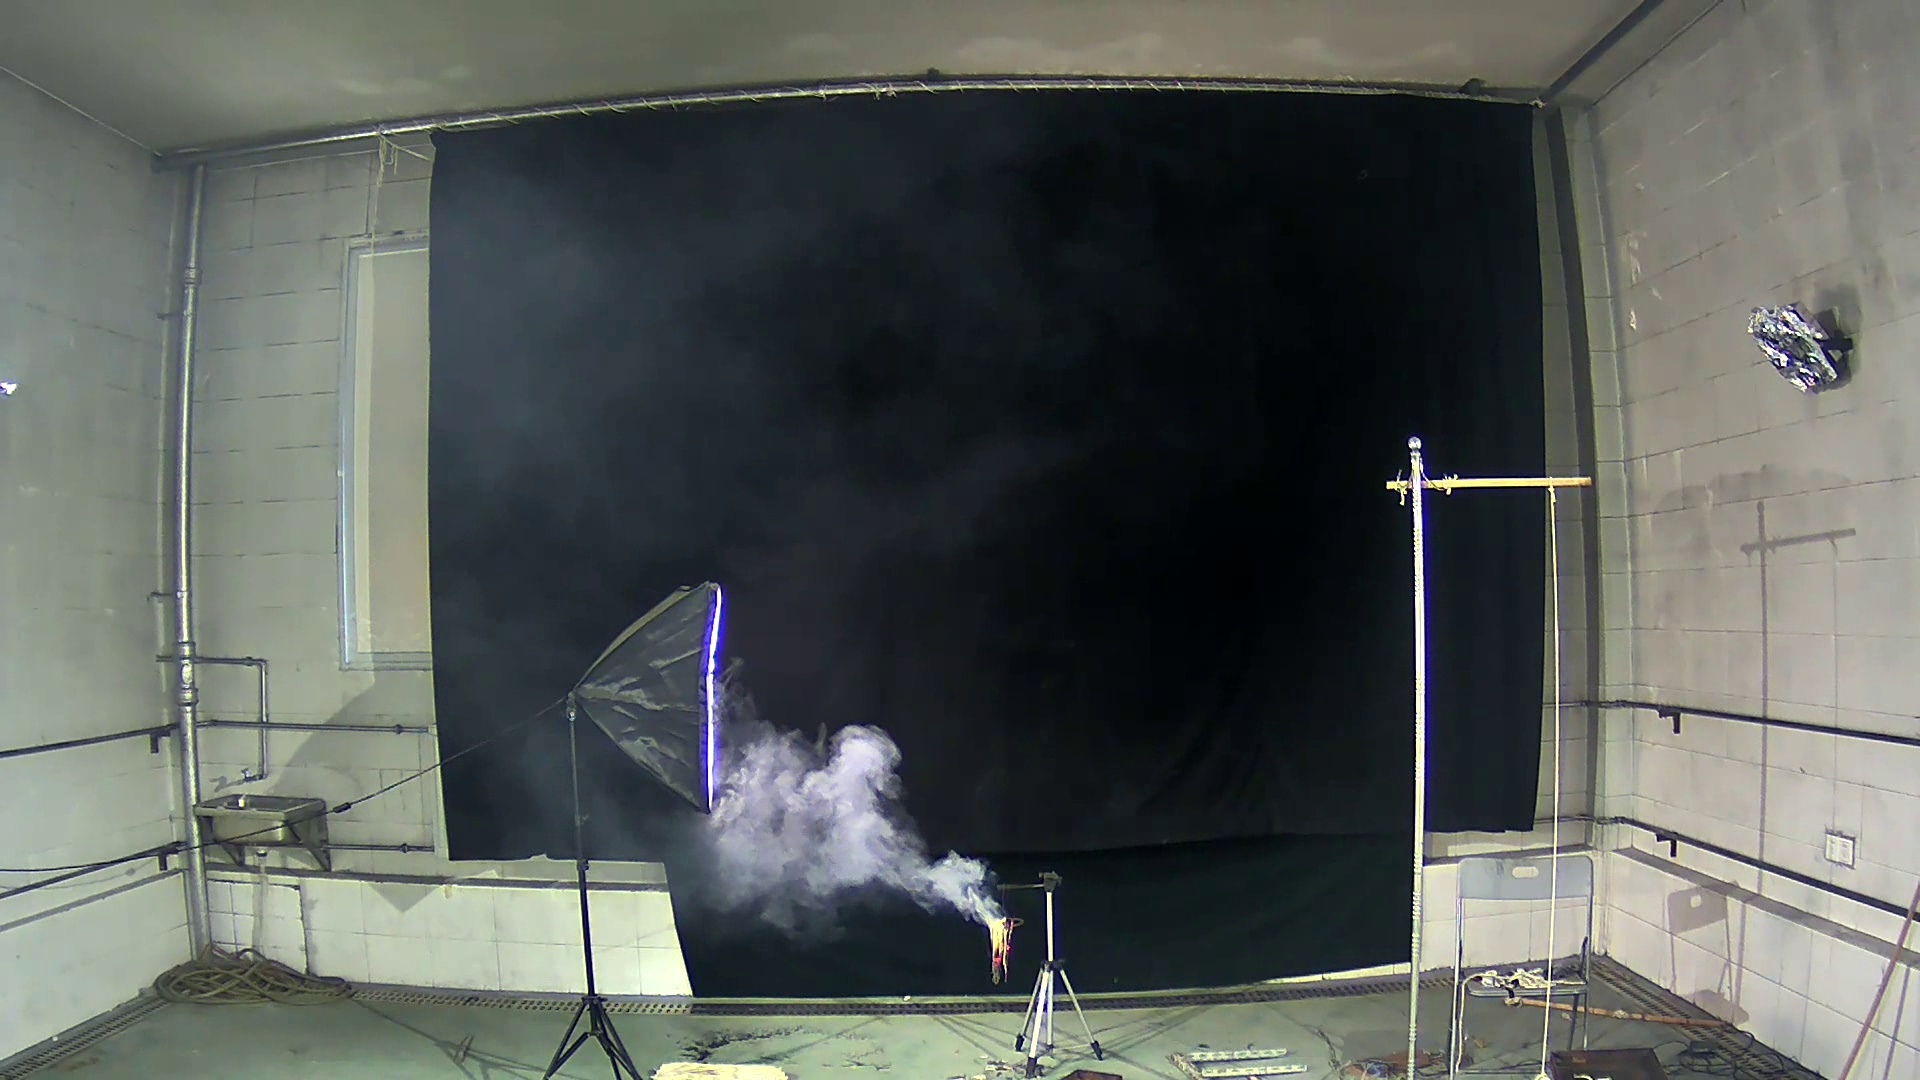smoke: (702, 684, 1007, 945)
